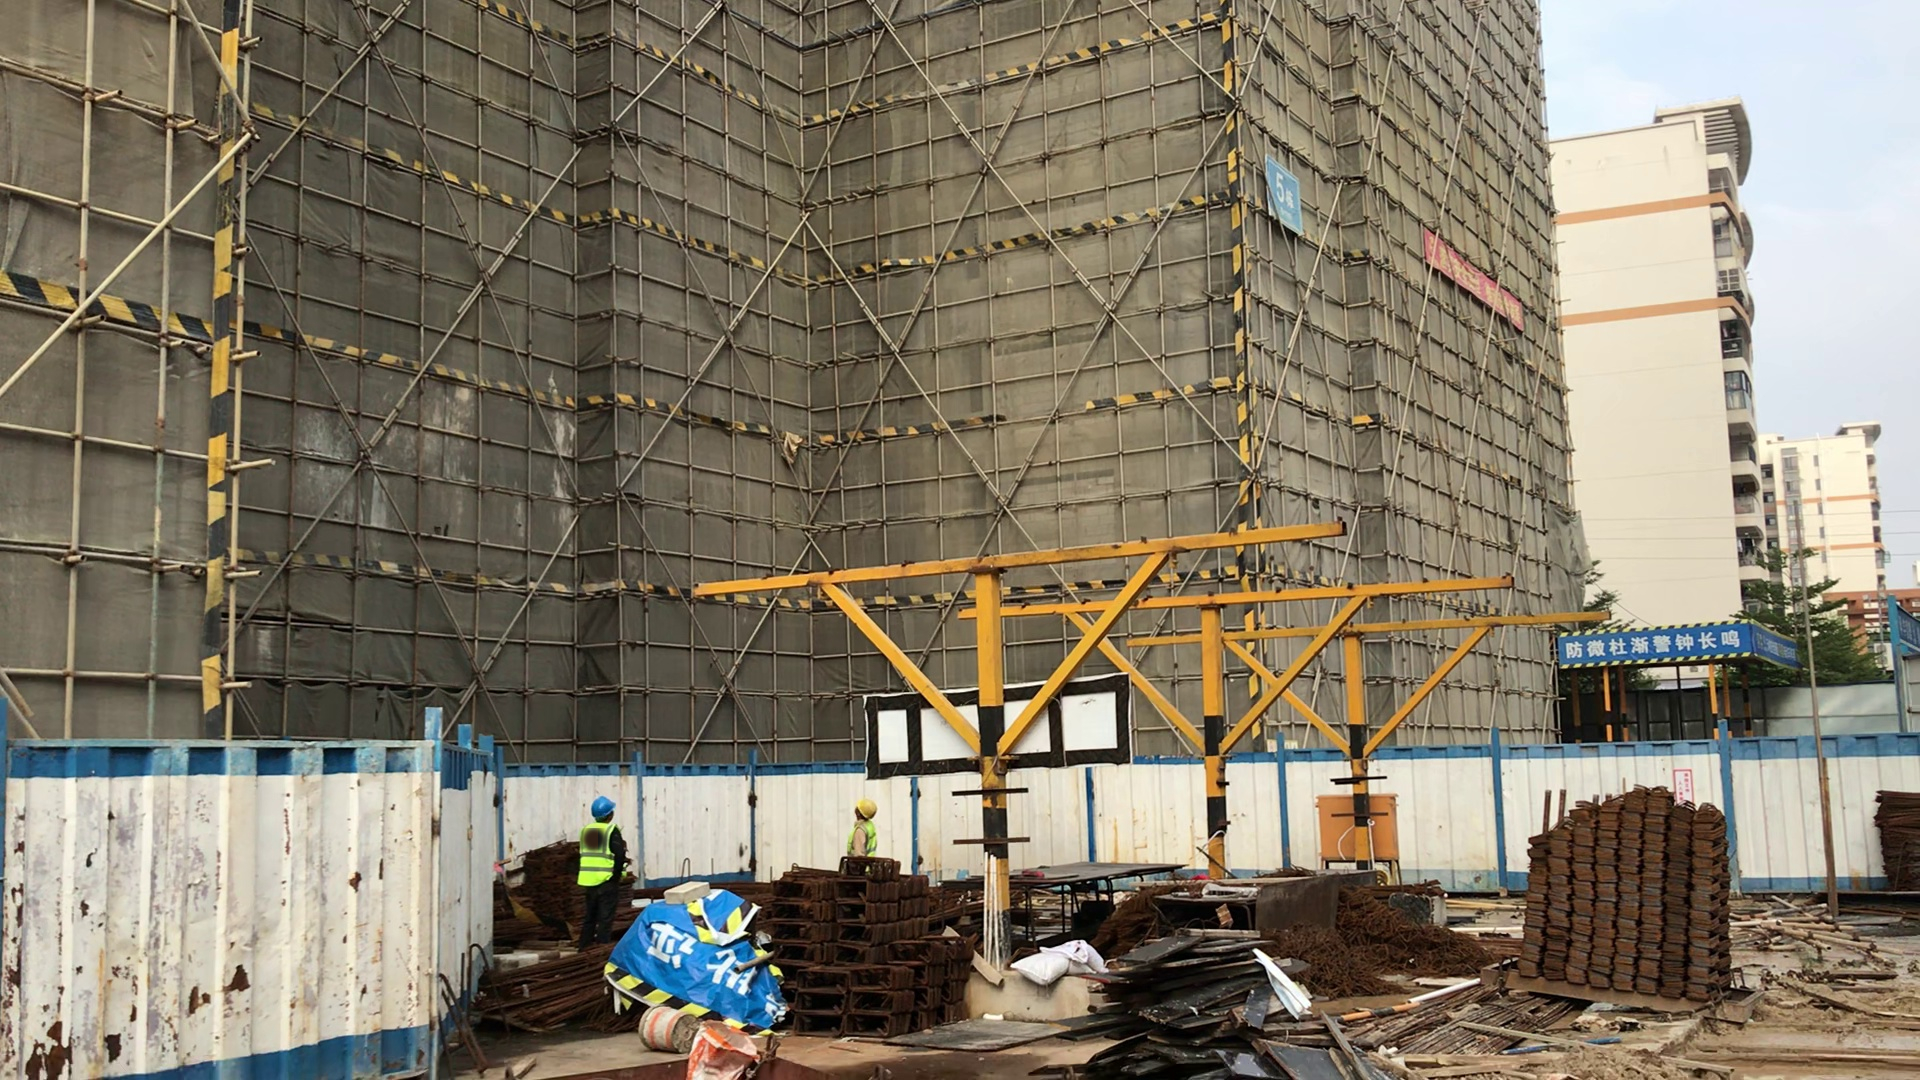ebox: (1311, 790, 1350, 875), (1376, 789, 1406, 880)
helmet: (856, 800, 877, 819)
person: (577, 795, 628, 945), (846, 798, 881, 854), (590, 796, 618, 820)
rebar: (487, 942, 606, 1038)
slogan: (1569, 622, 1802, 671), (1421, 230, 1524, 328), (1258, 158, 1299, 232)
vest: (578, 823, 617, 886), (847, 821, 878, 857)
